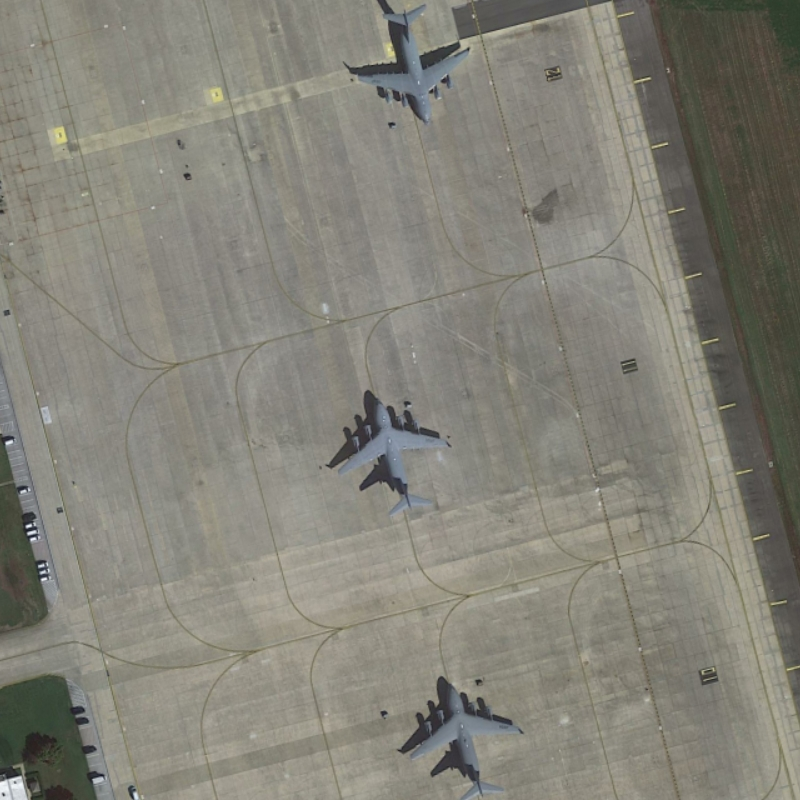A3: (348, 1, 478, 127), (400, 676, 531, 800), (332, 389, 450, 521)
